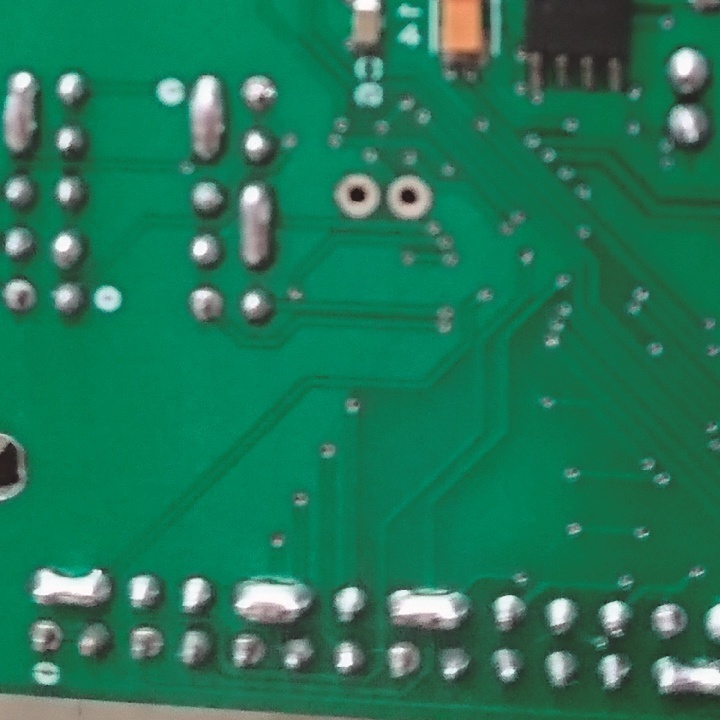F: (384, 172, 435, 225), (333, 172, 380, 218), (225, 631, 271, 676), (381, 642, 426, 686), (26, 615, 64, 663), (187, 283, 226, 326), (1, 275, 38, 320), (238, 71, 279, 111), (127, 625, 167, 666), (650, 600, 688, 641)
P: (28, 558, 114, 613), (384, 585, 471, 635), (229, 575, 316, 623), (1, 66, 42, 160), (186, 73, 226, 165), (647, 654, 720, 701), (234, 183, 271, 262)
